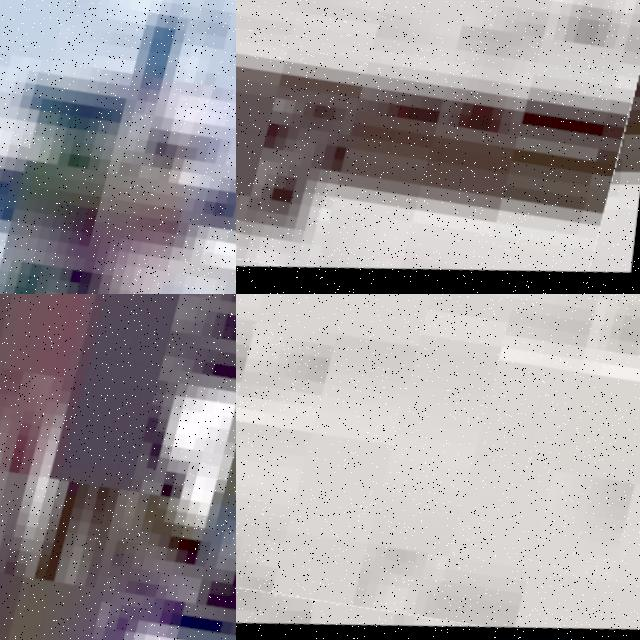drone: (236, 294, 640, 640), (236, 0, 640, 294), (0, 294, 236, 640), (0, 0, 236, 294)
